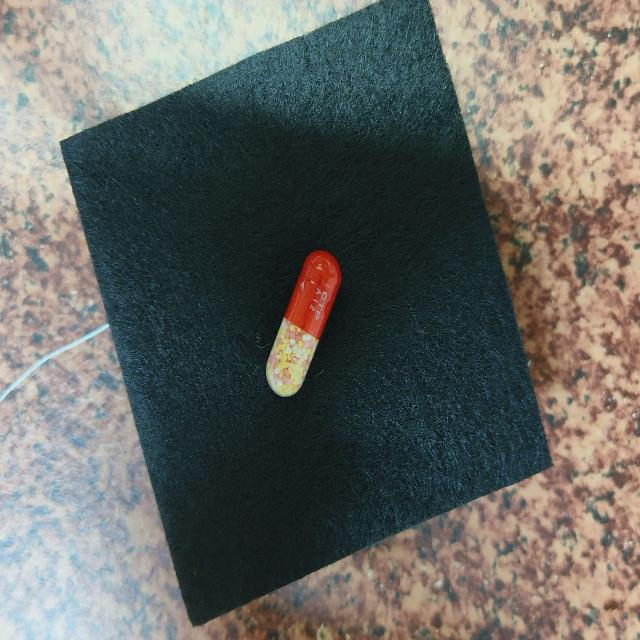Intact Capsule: (266, 250, 341, 397)
